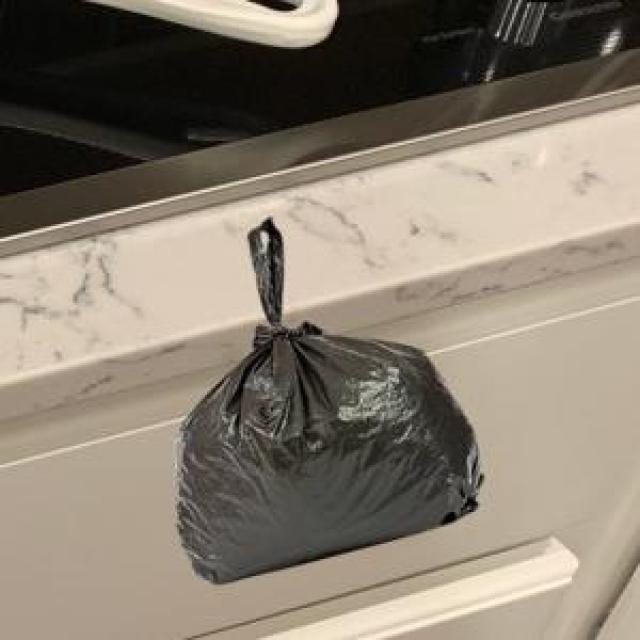miscellaneous trash: (171, 213, 480, 580)
